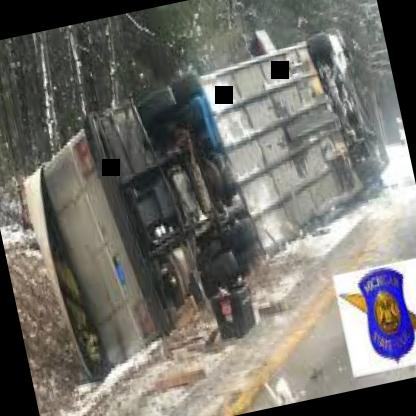accident: (0, 13, 416, 381)
